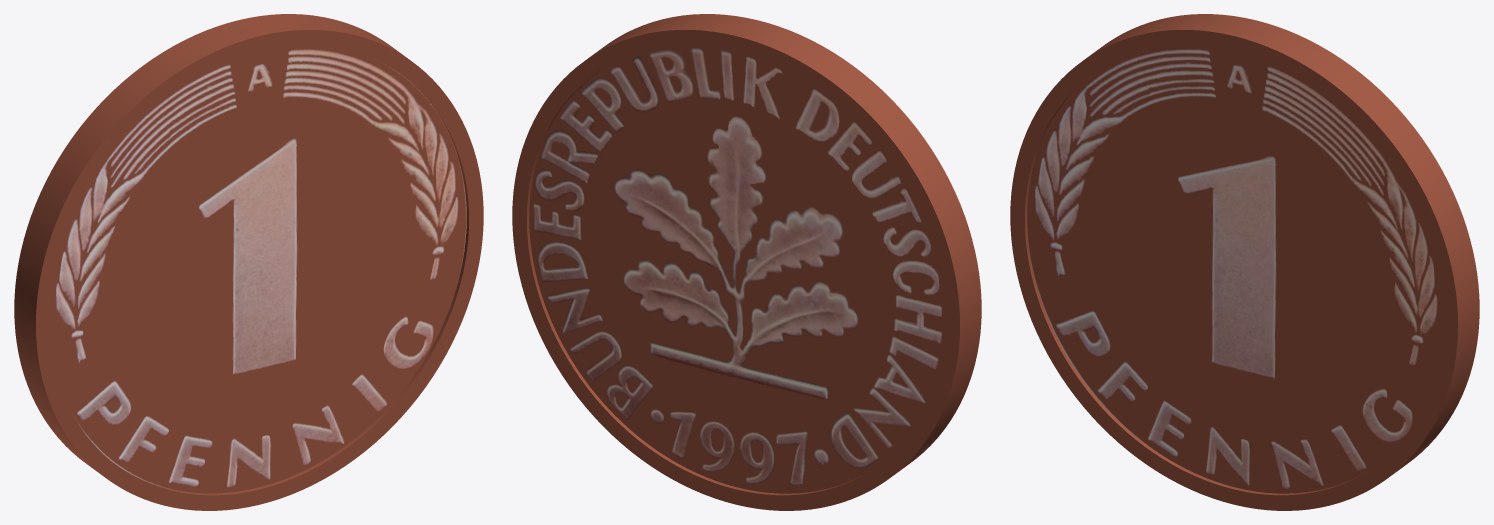
The model's file is 1_pfennig_1997_germany.glb.
3 views of the same model, side by side, from view 1: azimuth 30°, elevation 25°; view 2: azimuth 150°, elevation 25°; view 3: azimuth 330°, elevation 25° (orthographic).
Parts seen in each view (by area): view 1: Cylinder; view 2: Cylinder; view 3: Cylinder.
Part boxes in pixels (x1,y1,x2,y2): Cylinder: (14, 14, 483, 510); Cylinder: (512, 14, 981, 510); Cylinder: (1010, 14, 1479, 510).
Bounding box in the file's own units: 16.5 × 16.5 × 1.38.
Materials: 3 (2 with a texture image).
